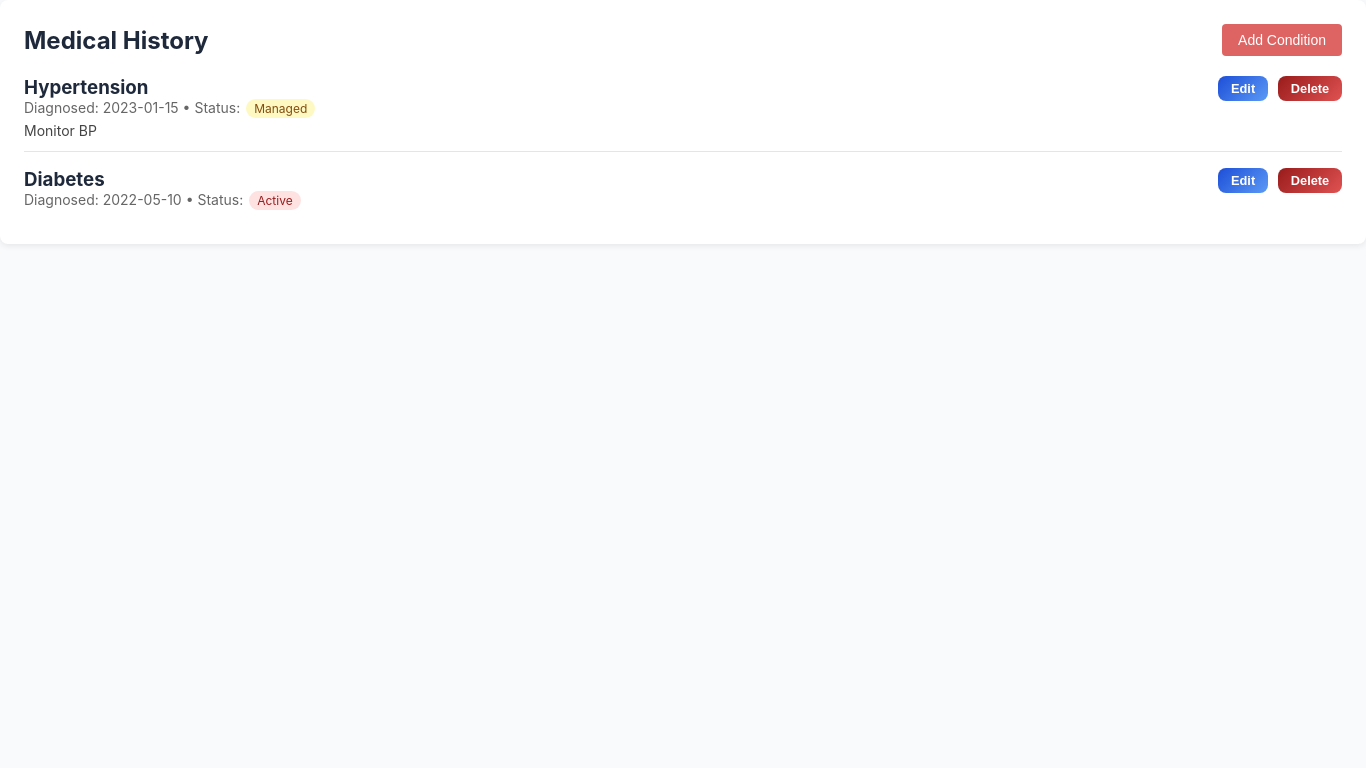
Test: MedicalHistory component › opens delete confirmation modal when Delete is clicked
The image size is (1366, 768).
Expected: the heading "Hypertension" is shown, [24, 76, 148, 99]
Click the button "Delete" in the row of "Hypertension". click: (1310, 88)
box: [1278, 76, 1342, 101]
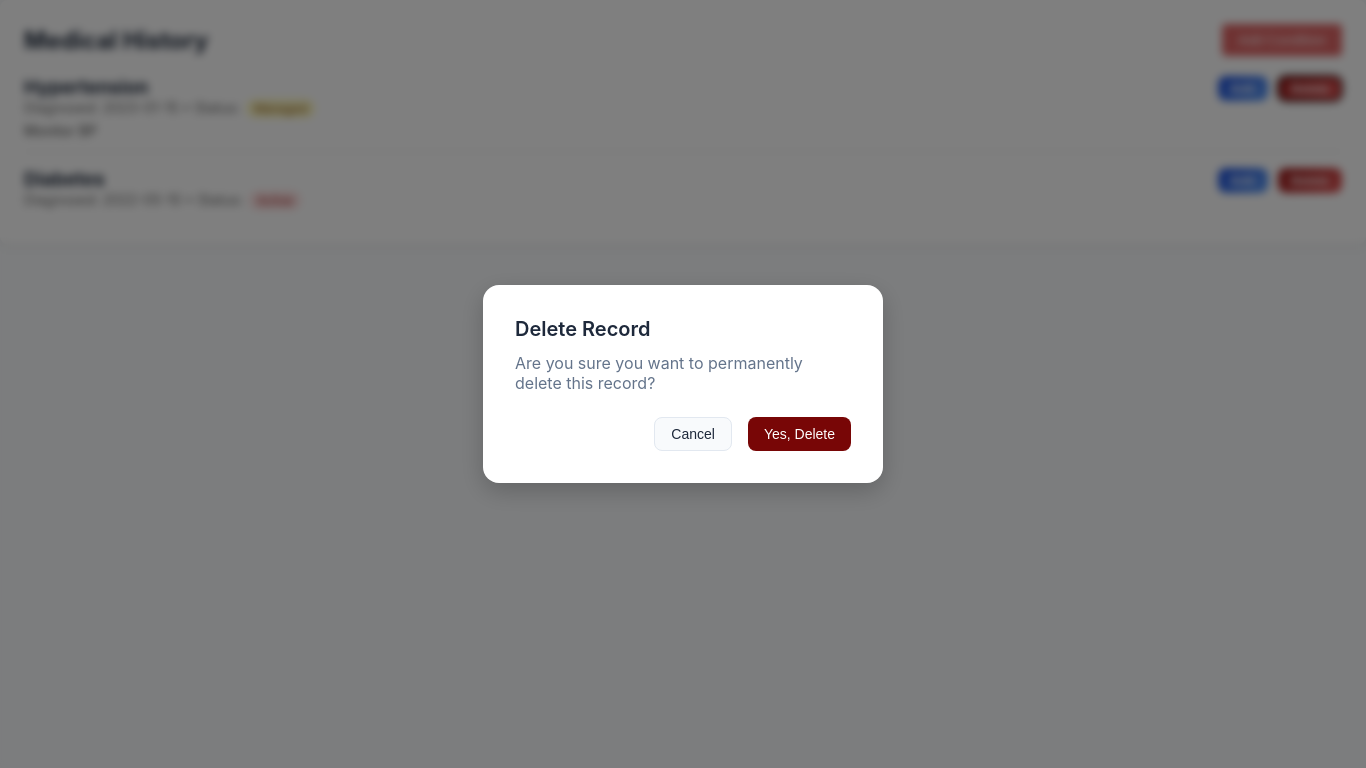
Now the text "Are you sure you want to permanently delete this record?" is shown, box [515, 353, 851, 393]
